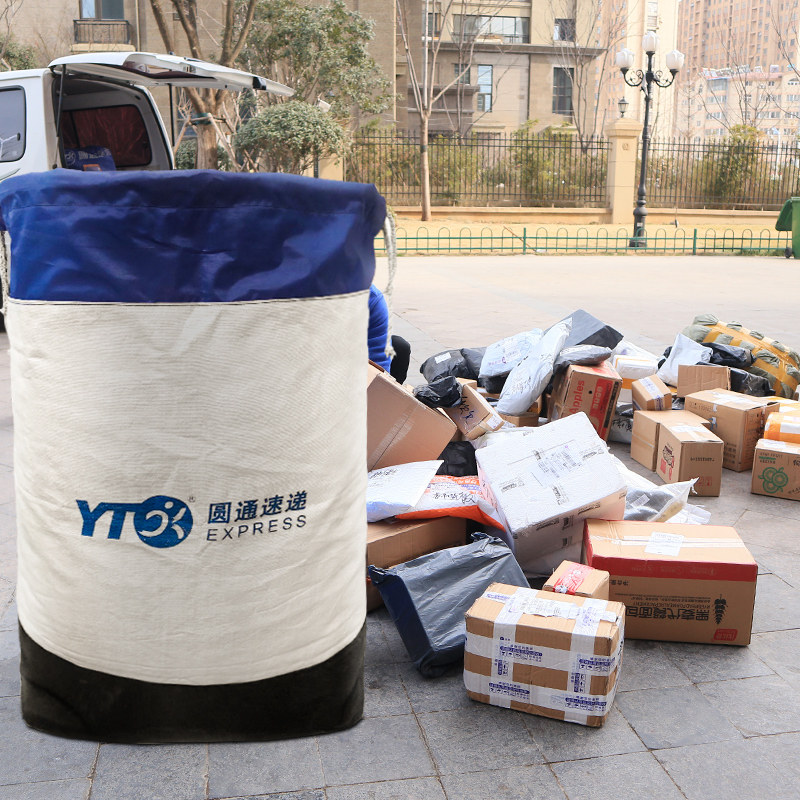Parcel: (0, 169, 385, 743)
